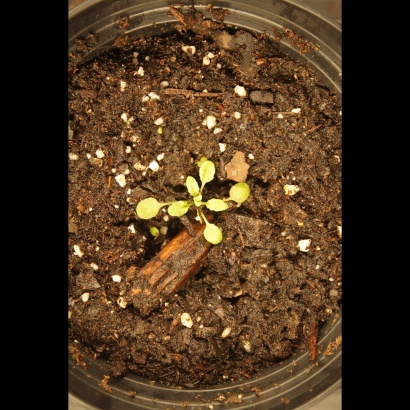leaf: (196, 220, 228, 249), (193, 157, 222, 188), (225, 180, 259, 205), (133, 195, 164, 221), (175, 174, 202, 201), (165, 201, 192, 225), (205, 195, 230, 218)
